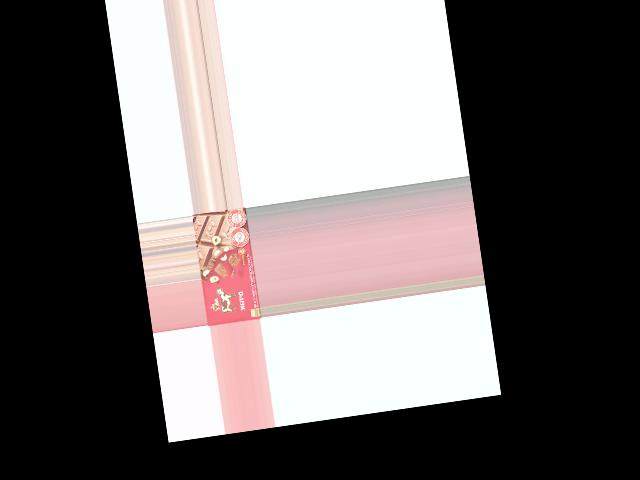chocolate: (192, 208, 260, 326)
